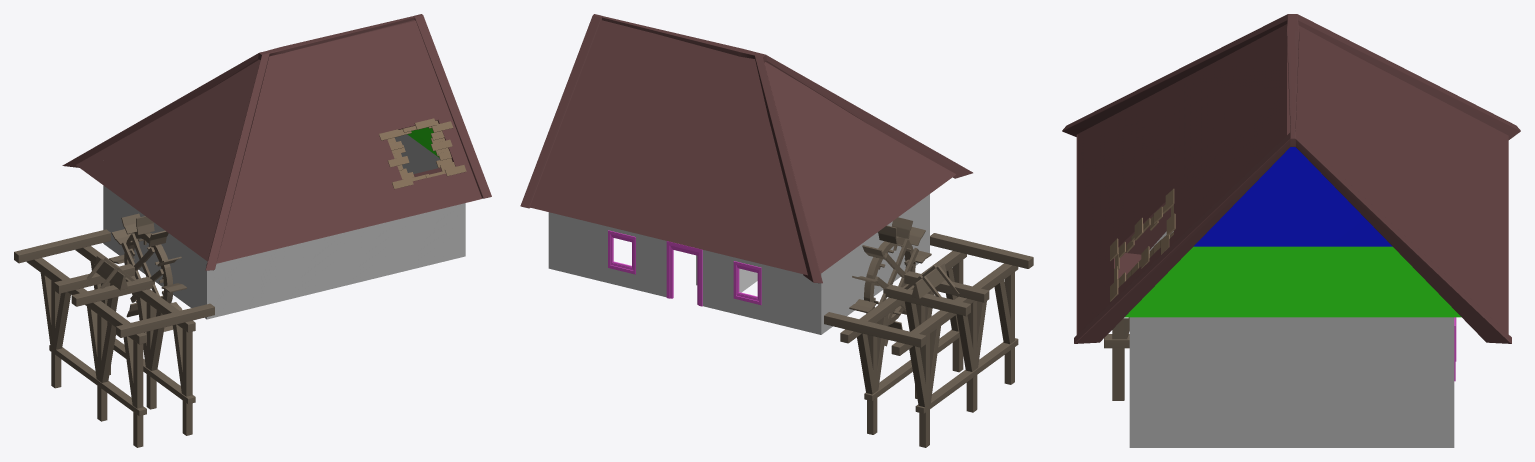
Rendered from mill_rianne.fbx.
The picture shows the model from 3 angles, left to right: view 1: azimuth 30°, elevation 25°; view 2: azimuth 150°, elevation 25°; view 3: azimuth 270°, elevation 25°; orthographic projection. The views are drawn at different scales.
Visible parts, largest first — view 1: Wall, ExteriorWall, RoofTrim, BlocksTop, MillWheel, pCube19, BlocksBottom, Pillar3, Pillar1, Pillar4, Pillar5, Pillar (+3 smaller); view 2: Wall, ExteriorWall, RoofTrim, BlocksTop, MillWheel, BlocksBottom, Pillar3, Pillar1, Pillar2, Pillar4, Blocks, Blocks1 (+2 smaller); view 3: Wall, ExteriorWall, RoofTrim, pCube19, Pillar5.
Part boxes in pixels (<box>): Wall: <box>76,20,482,263</box>; ExteriorWall: <box>103,185,465,319</box>; RoofTrim: <box>62,14,491,270</box>; BlocksTop: <box>26,246,195,344</box>; MillWheel: <box>109,213,186,331</box>; pCube19: <box>379,118,466,189</box>; BlocksBottom: <box>49,338,195,415</box>; Pillar3: <box>40,267,70,388</box>; Pillar1: <box>87,306,115,421</box>; Pillar4: <box>123,336,143,447</box>; Pillar5: <box>172,324,192,435</box>; Pillar: <box>136,295,164,409</box>; Wall: <box>531,20,955,275</box>; ExteriorWall: <box>548,194,929,334</box>; RoofTrim: <box>520,14,972,283</box>; BlocksTop: <box>840,251,1018,355</box>; MillWheel: <box>849,217,931,346</box>; BlocksBottom: <box>864,329,1018,413</box>; Pillar3: <box>909,321,941,447</box>; Pillar1: <box>956,300,986,412</box>; Pillar2: <box>857,314,888,434</box>; Pillar4: <box>994,272,1014,384</box>; Blocks: <box>930,233,1033,268</box>; Blocks1: <box>824,312,926,347</box>; Wall: <box>1076,24,1508,334</box>; ExteriorWall: <box>1129,317,1456,447</box>; RoofTrim: <box>1062,14,1520,343</box>; pCube19: <box>1110,188,1175,301</box>; Pillar5: <box>1112,254,1149,400</box>.
Bounding box in the file's own units: 18.15 × 14.79 × 12.73.
